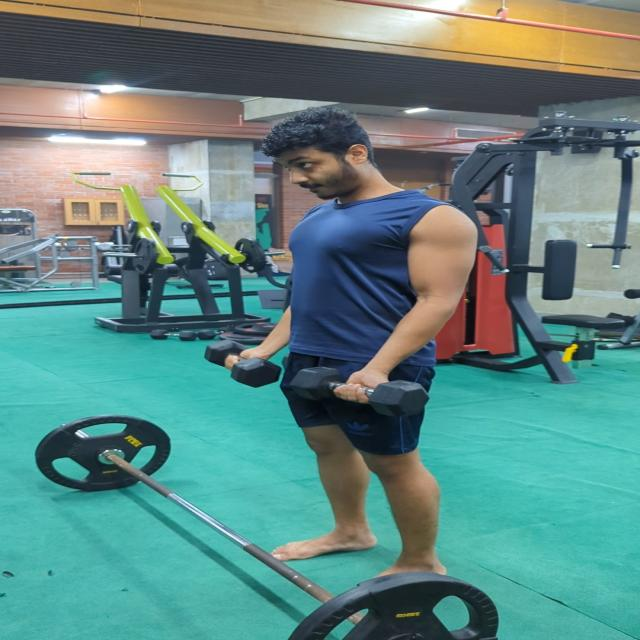Normal_DumbbellBicepCurls: (201, 106, 481, 592)
